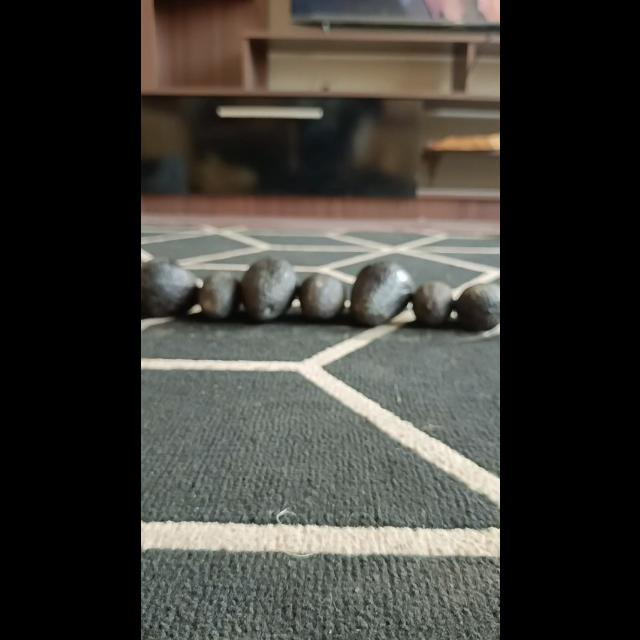Primera: (349, 260, 415, 326), (240, 256, 296, 322), (140, 260, 198, 316)
Segunda: (298, 273, 346, 321), (454, 282, 498, 332), (198, 271, 240, 319)
Tercera: (412, 280, 454, 326)
